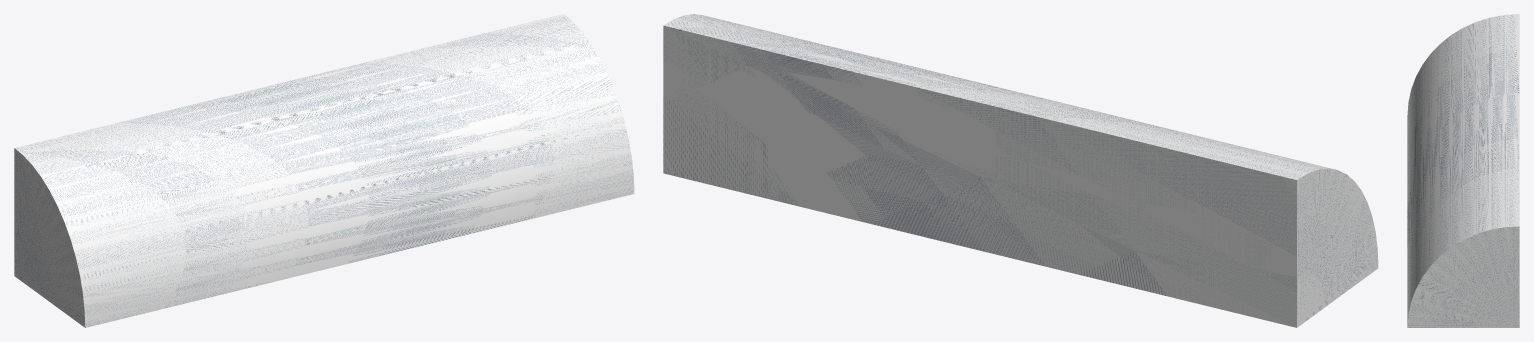
File: Border.dae
3 views of the same model, side by side, from view 1: azimuth 30°, elevation 25°; view 2: azimuth 150°, elevation 25°; view 3: azimuth 270°, elevation 25° (orthographic). The views are drawn at different scales.
Parts seen in each view (by area): view 1: Border; view 2: Border; view 3: Border.
Part boxes in pixels (bbox=[...]): Border: bbox=[14, 14, 634, 327]; Border: bbox=[663, 14, 1378, 327]; Border: bbox=[1407, 14, 1519, 327].
Bounding box in the file's own units: 883 × 197 × 197.
